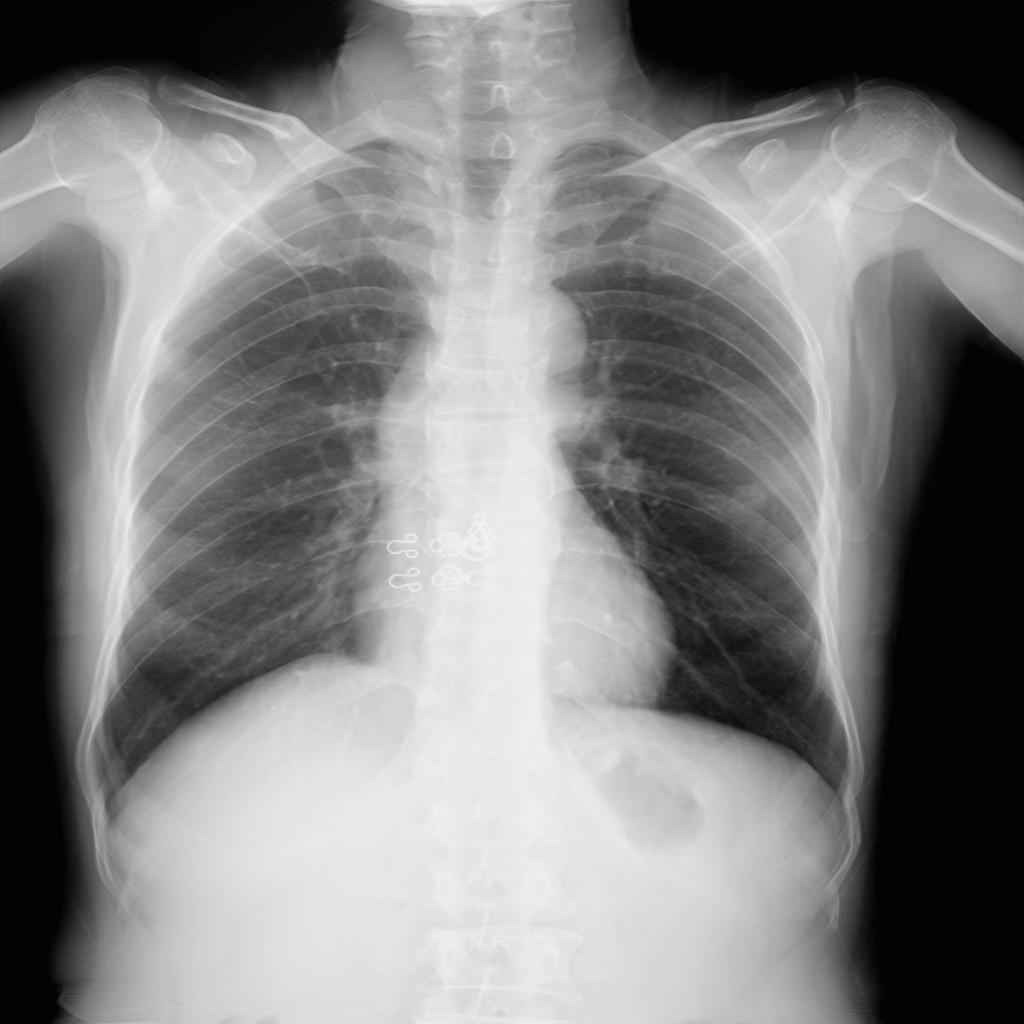Nodule: (732, 485, 768, 511)
